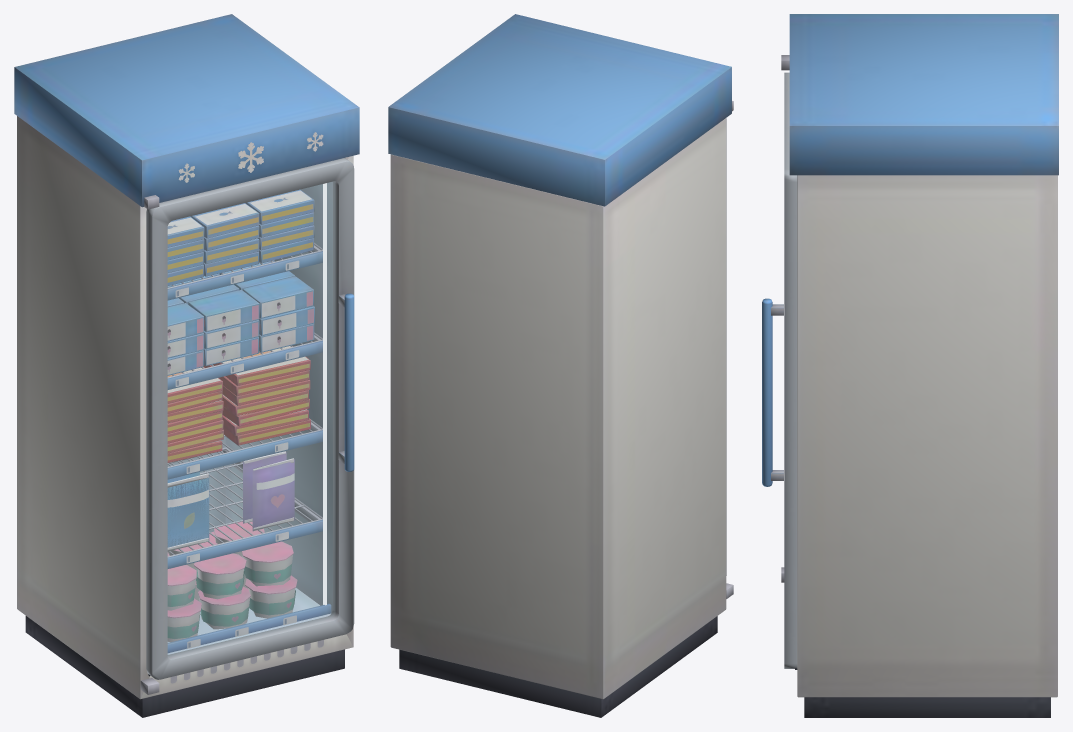
File: g3-upright-freezer-lite.glb
3 views of the same model, side by side, from view 1: azimuth 30°, elevation 25°; view 2: azimuth 150°, elevation 25°; view 3: azimuth 270°, elevation 25° (orthographic). The views are drawn at different scales.
Visible parts, largest first — view 1: upright-freezer_body, upright-freezer_door_glass, upright-freezer_door, upright-freezer_led_glow; view 2: upright-freezer_body; view 3: upright-freezer_body, upright-freezer_door.
Boxes of the visible parts, x1,y1,x2,y2 form: upright-freezer_body: (14,14,359,717); upright-freezer_door_glass: (168,181,335,657); upright-freezer_door: (146,158,354,679); upright-freezer_led_glow: (323,183,326,605); upright-freezer_body: (388,14,733,717); upright-freezer_body: (781,14,1058,717); upright-freezer_door: (762,72,797,669).
Bounding box in the file's own units: 0.8135 × 2.02 × 0.9107.
4 materials, 2 textured.
